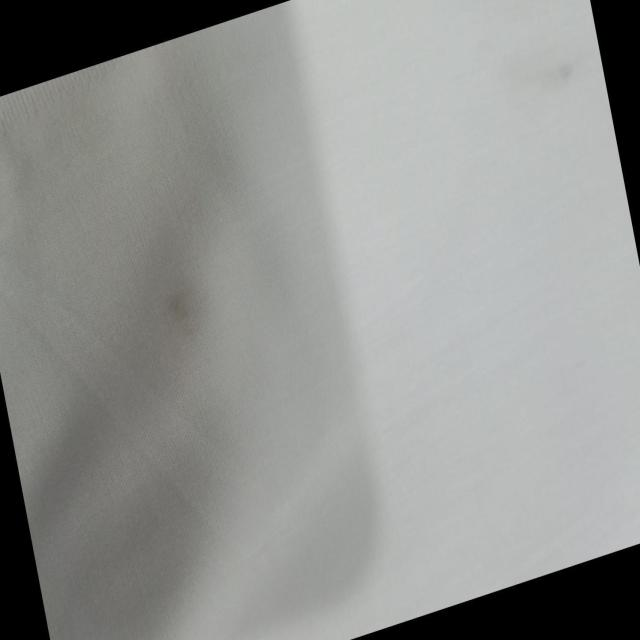stain: (148, 251, 221, 354), (535, 39, 597, 106)
